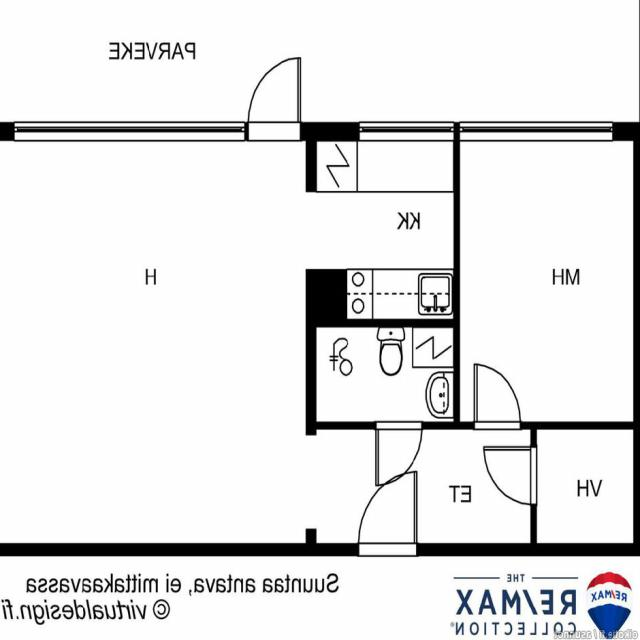door: (359, 472, 416, 556), (248, 59, 301, 140), (376, 421, 423, 487), (475, 365, 520, 429), (486, 448, 537, 503)
